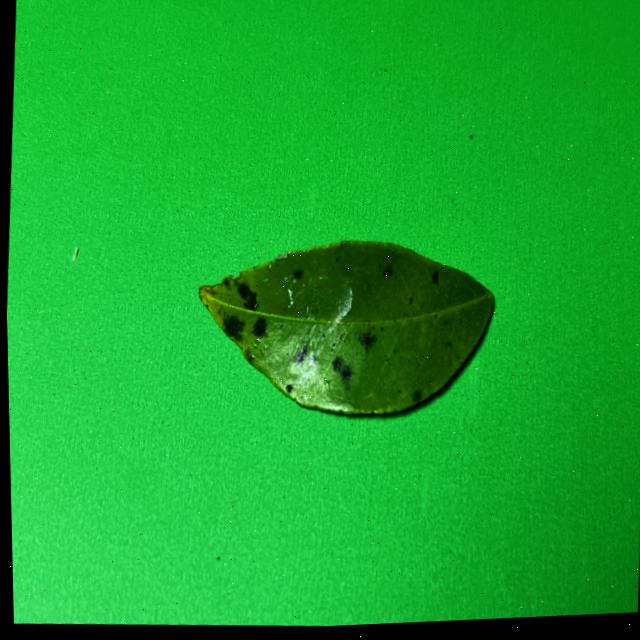sooty_mold: (199, 242, 494, 414)
